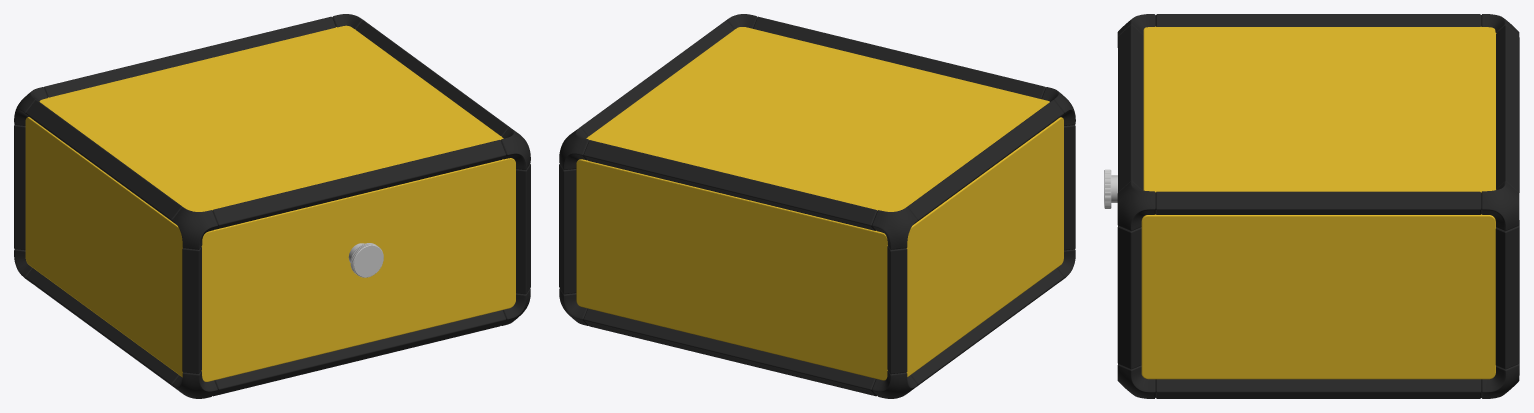
3 renders of one model, left to right at view 1: azimuth 30°, elevation 25°; view 2: azimuth 150°, elevation 25°; view 3: azimuth 270°, elevation 25°, orthographic. The views are drawn at different scales.
Parts seen in each view (by area): view 1: 374x329x154; view 2: 374x329x154; view 3: 374x329x154.
Boxes of the visible parts, <box> form: 374x329x154: <box>14,14,530,398</box>; 374x329x154: <box>559,14,1075,398</box>; 374x329x154: <box>1104,14,1519,398</box>.
Bounding box in the file's own units: 0.4517 × 0.2316 × 0.4196.
